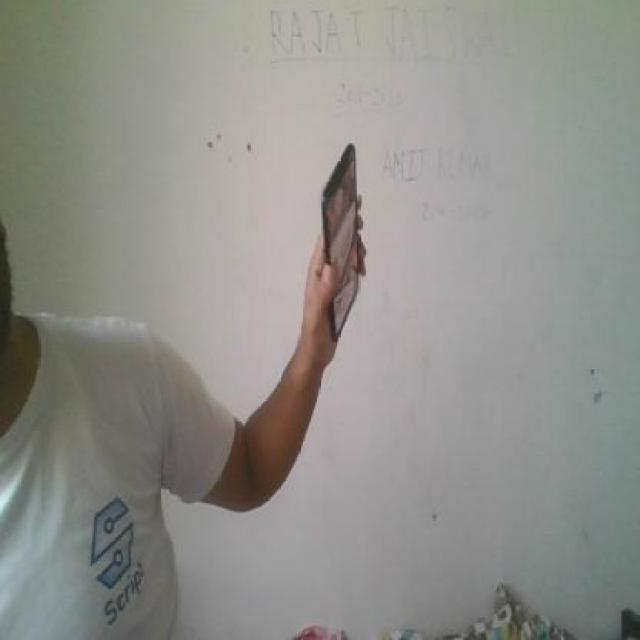Phone: (315, 142, 366, 352)
